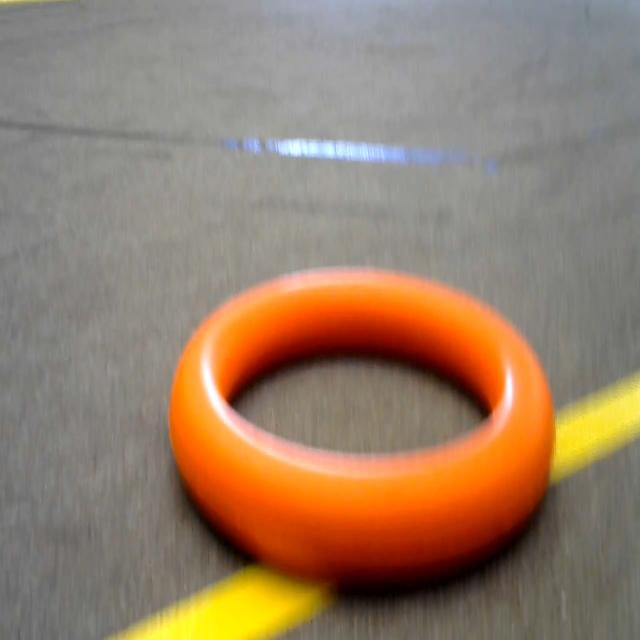note: (155, 249, 567, 600)
